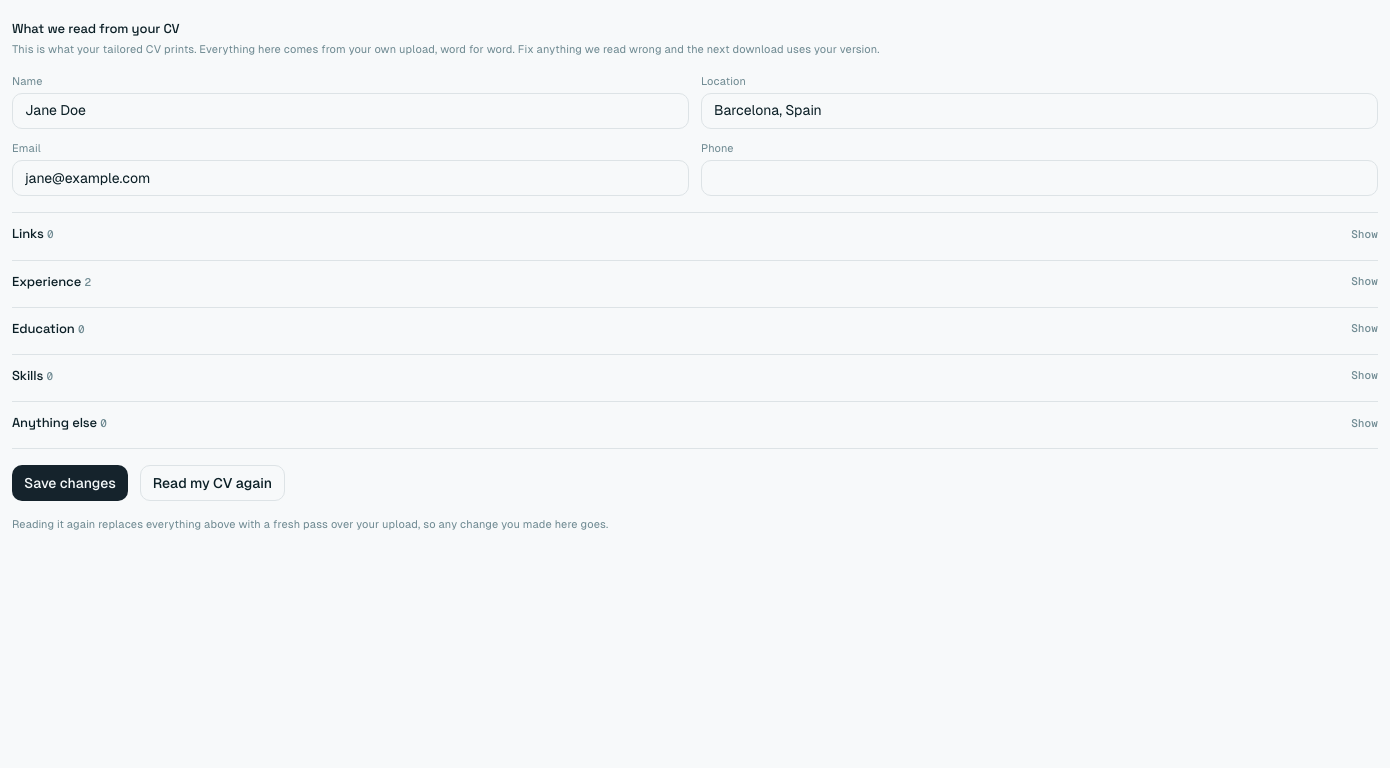
CvEditor — order and grouping › the section says a removal is not final, because 'Read my CV again' undoes it
Click the button "Experience 2 Show" at (47, 281), box [12,272,1378,291]
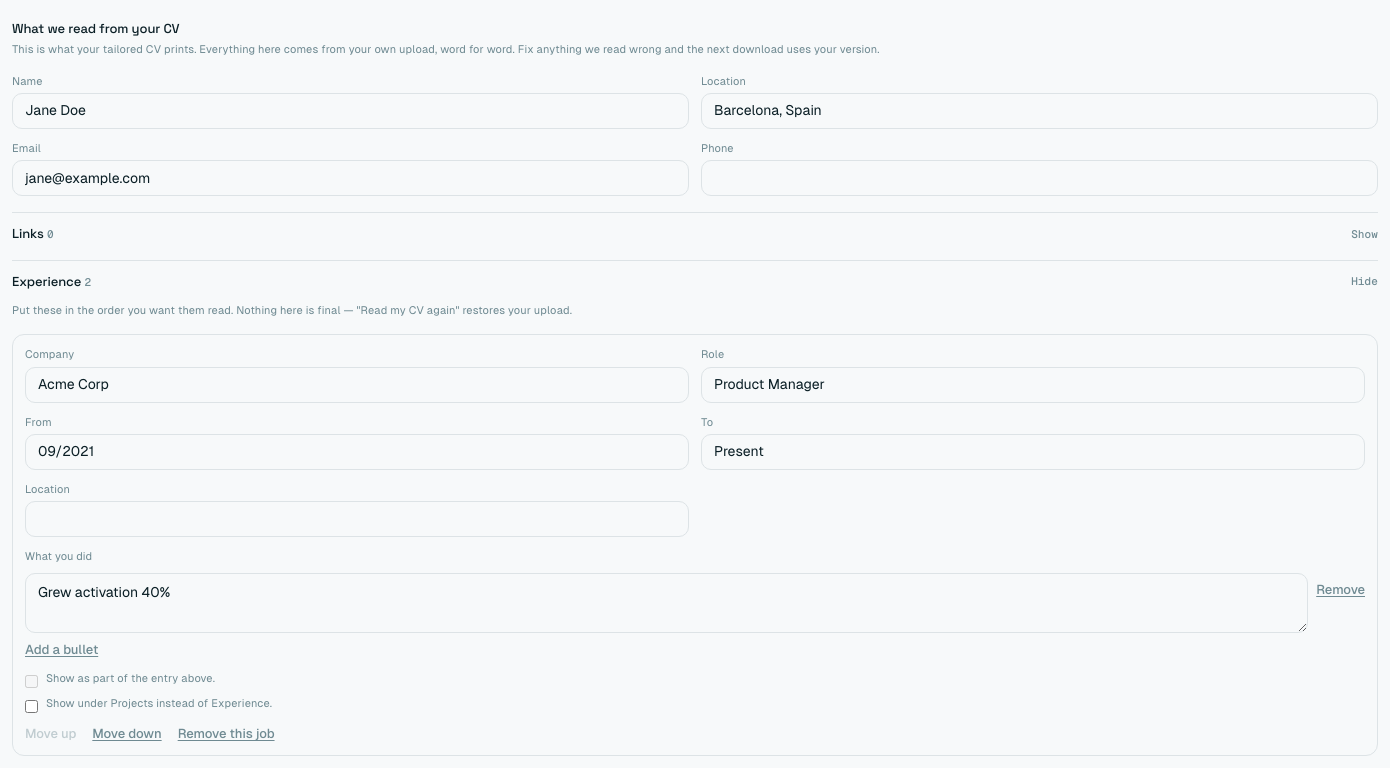
Result: the text "Read my CV again\" restores your upload" is shown at [12,304,572,316]
